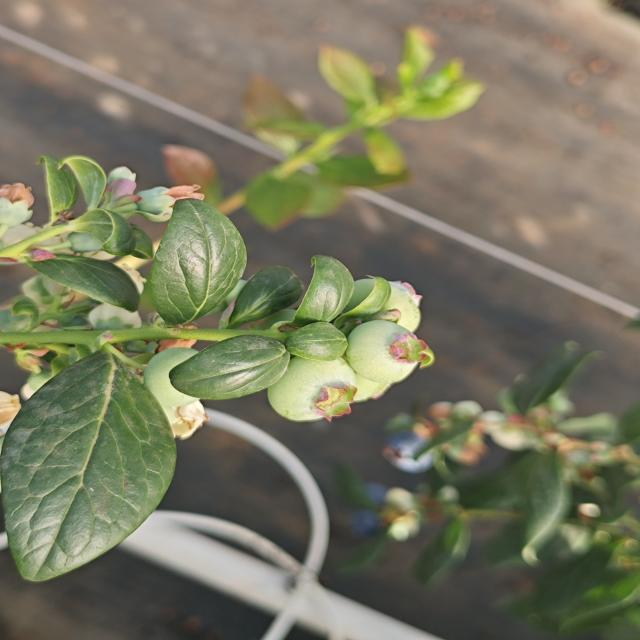ripe: (378, 419, 448, 479)
